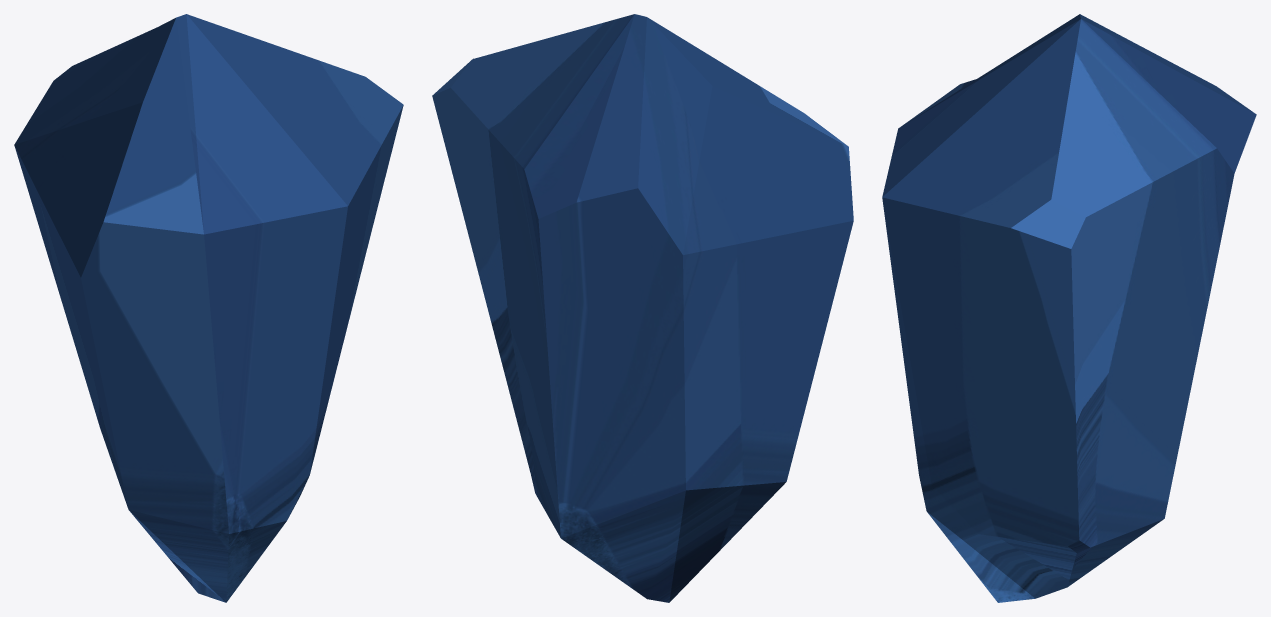
The picture shows the model from 3 angles, left to right: view 1: azimuth 30°, elevation 25°; view 2: azimuth 150°, elevation 25°; view 3: azimuth 270°, elevation 25°; orthographic projection. The views are drawn at different scales.
Visible parts, largest first — view 1: cystal_b2; view 2: cystal_b2; view 3: cystal_b2.
Part boxes in pixels (left/top/right/bottom): cystal_b2: left=14, top=14, right=403, bottom=602; cystal_b2: left=432, top=14, right=853, bottom=602; cystal_b2: left=882, top=14, right=1256, bottom=602.
Size of the model in its own units: 1.27 by 1.95 by 1.13.
